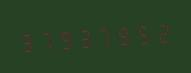five: (131, 17, 149, 49)
nine: (17, 25, 35, 57), (55, 22, 73, 54), (112, 18, 130, 50)
seven: (36, 24, 54, 55), (93, 20, 111, 51)
three: (74, 21, 92, 53)
two: (150, 16, 168, 47)
